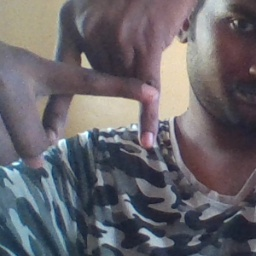H: (23, 22, 175, 158)
